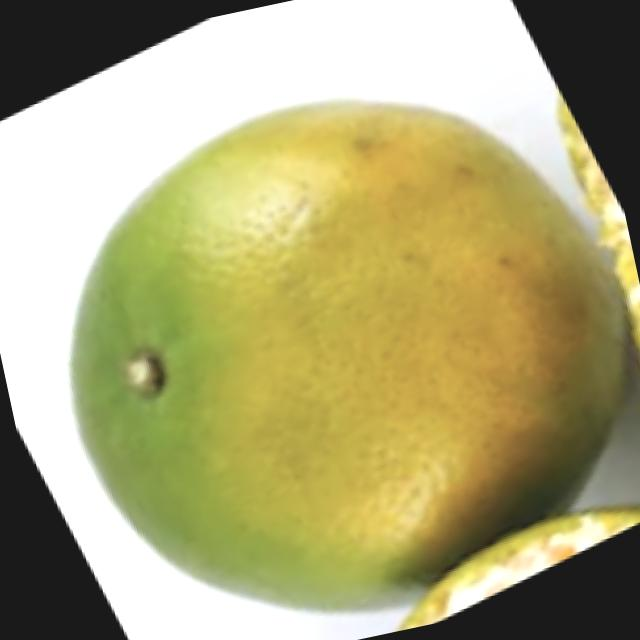orange: (3, 21, 640, 640)
